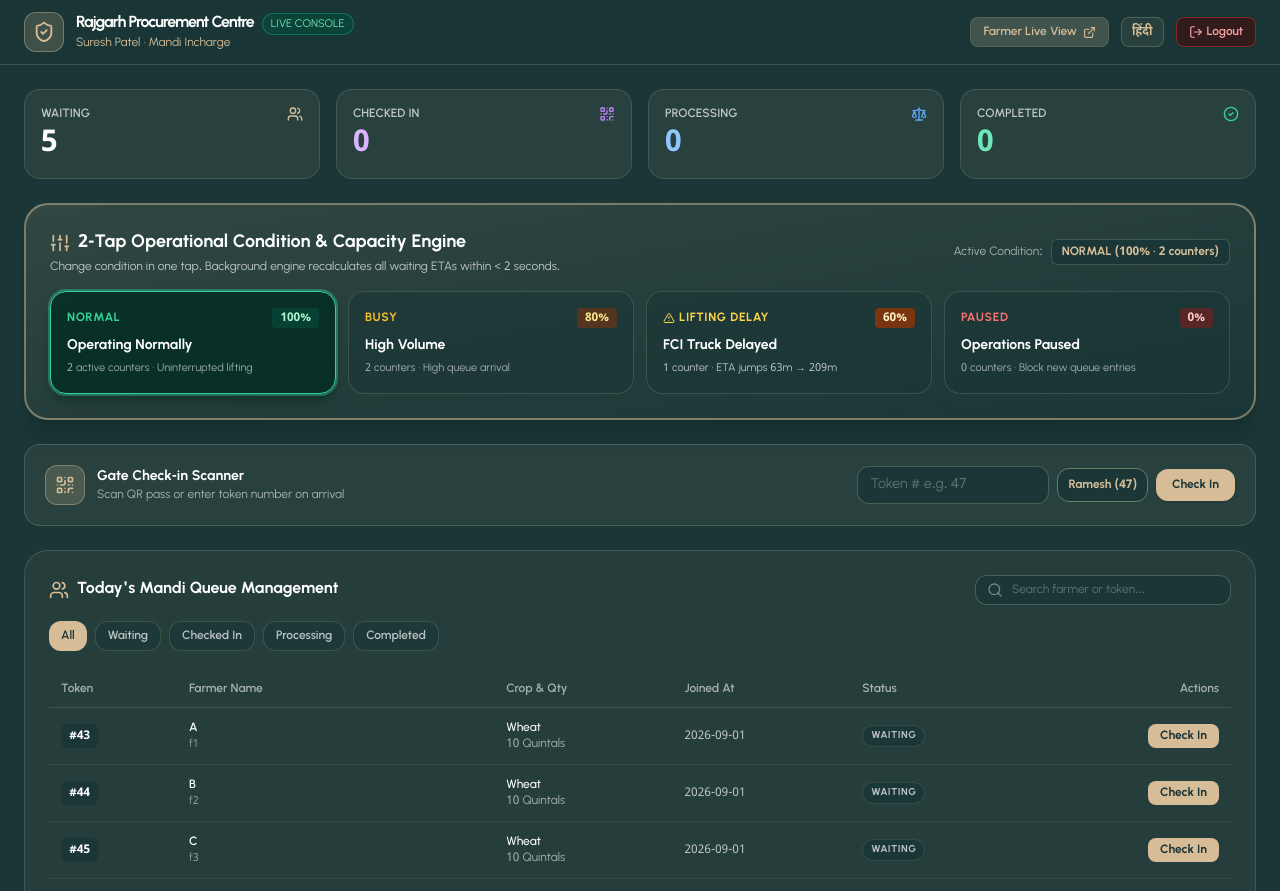
Test: Officer Console & 2-Tap Capacity › performs gate check-in on token input
This screenshot has width=1280, height=891.
In the field with placeholder "Token # e.g. 47": (953, 484) x1=857 y1=466 x2=1049 y2=504, type "47"
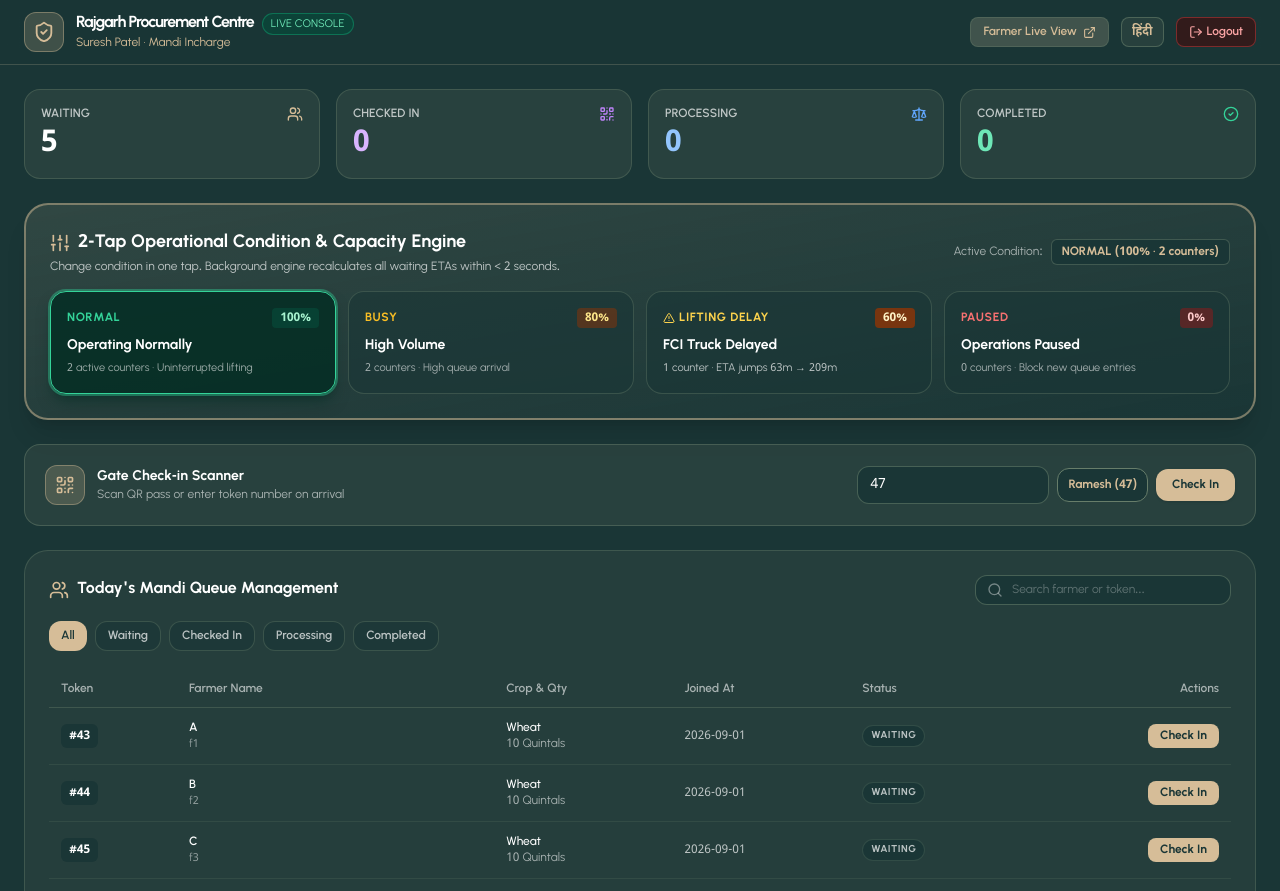
Submit the form with placeholder "Token # e.g. 47", box x1=857 y1=466 x2=1235 y2=504
(page scrolled)
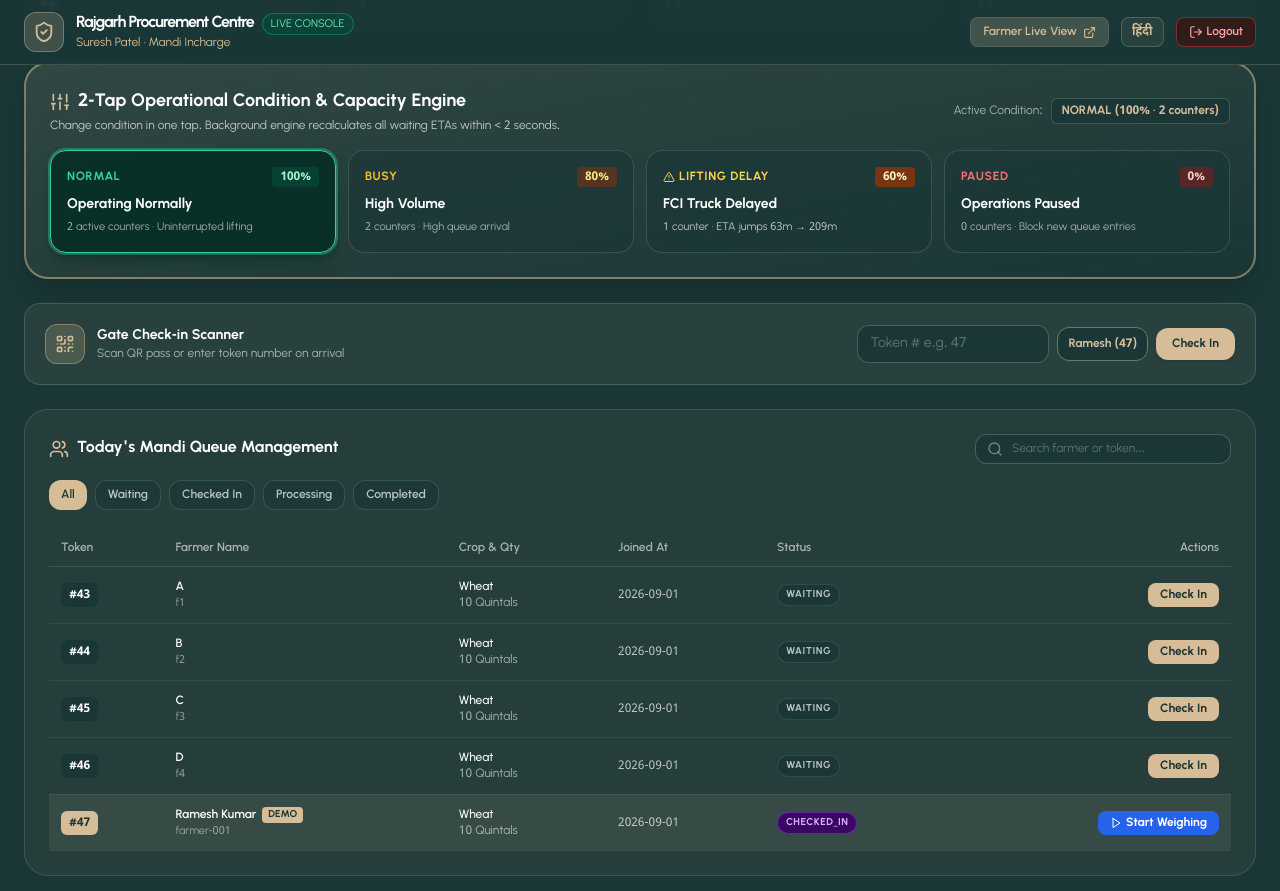
Now the text "CHECKED_IN" is shown, box x1=777 y1=812 x2=857 y2=834
